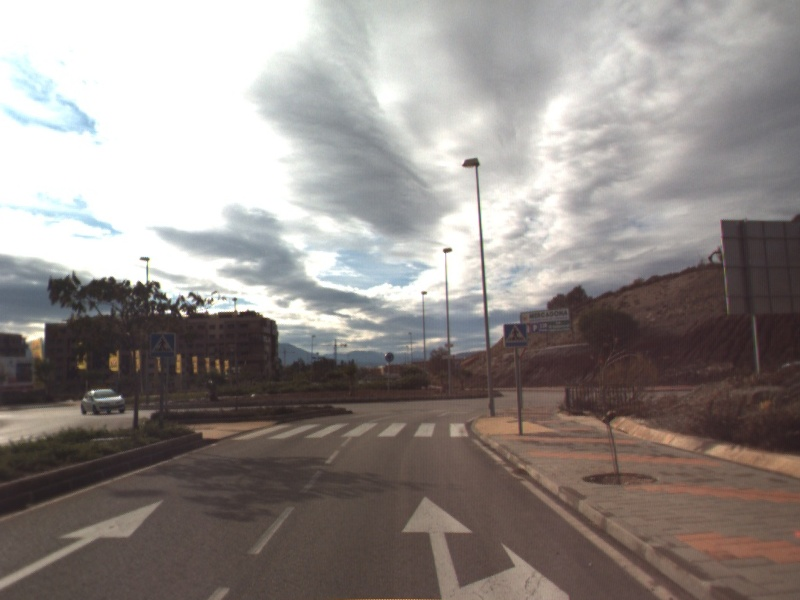STRAIGHT: (1, 497, 166, 590)
STRAIGHT_RIGHT: (398, 494, 572, 600)
